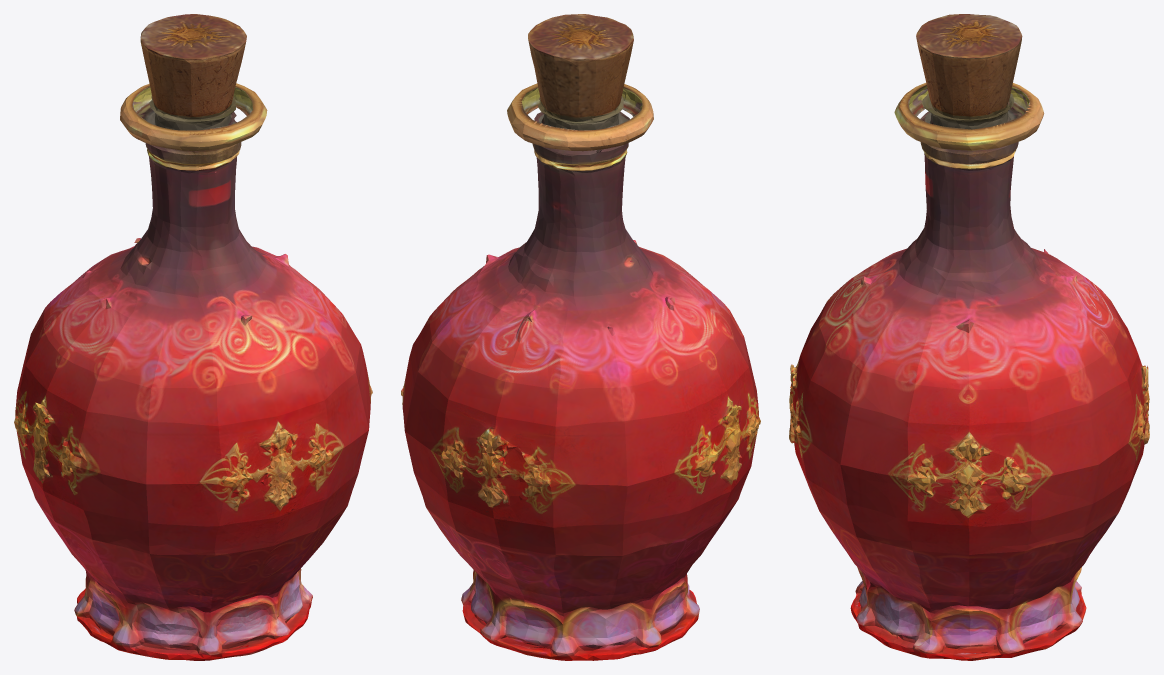
The model's file is potion.glb.
The picture shows the model from 3 angles, left to right: view 1: azimuth 30°, elevation 25°; view 2: azimuth 150°, elevation 25°; view 3: azimuth 270°, elevation 25°; orthographic projection.
Visible parts, largest first — view 1: temp; view 2: temp; view 3: temp.
Part boxes in pixels (box(x1,y1,x2,y2)): temp: box(14, 14, 372, 660); temp: box(401, 14, 760, 660); temp: box(789, 14, 1149, 660).
Size of the model in its own units: 0.0564 by 0.1 by 0.0564.
Materials: 1 (1 with a texture image).
